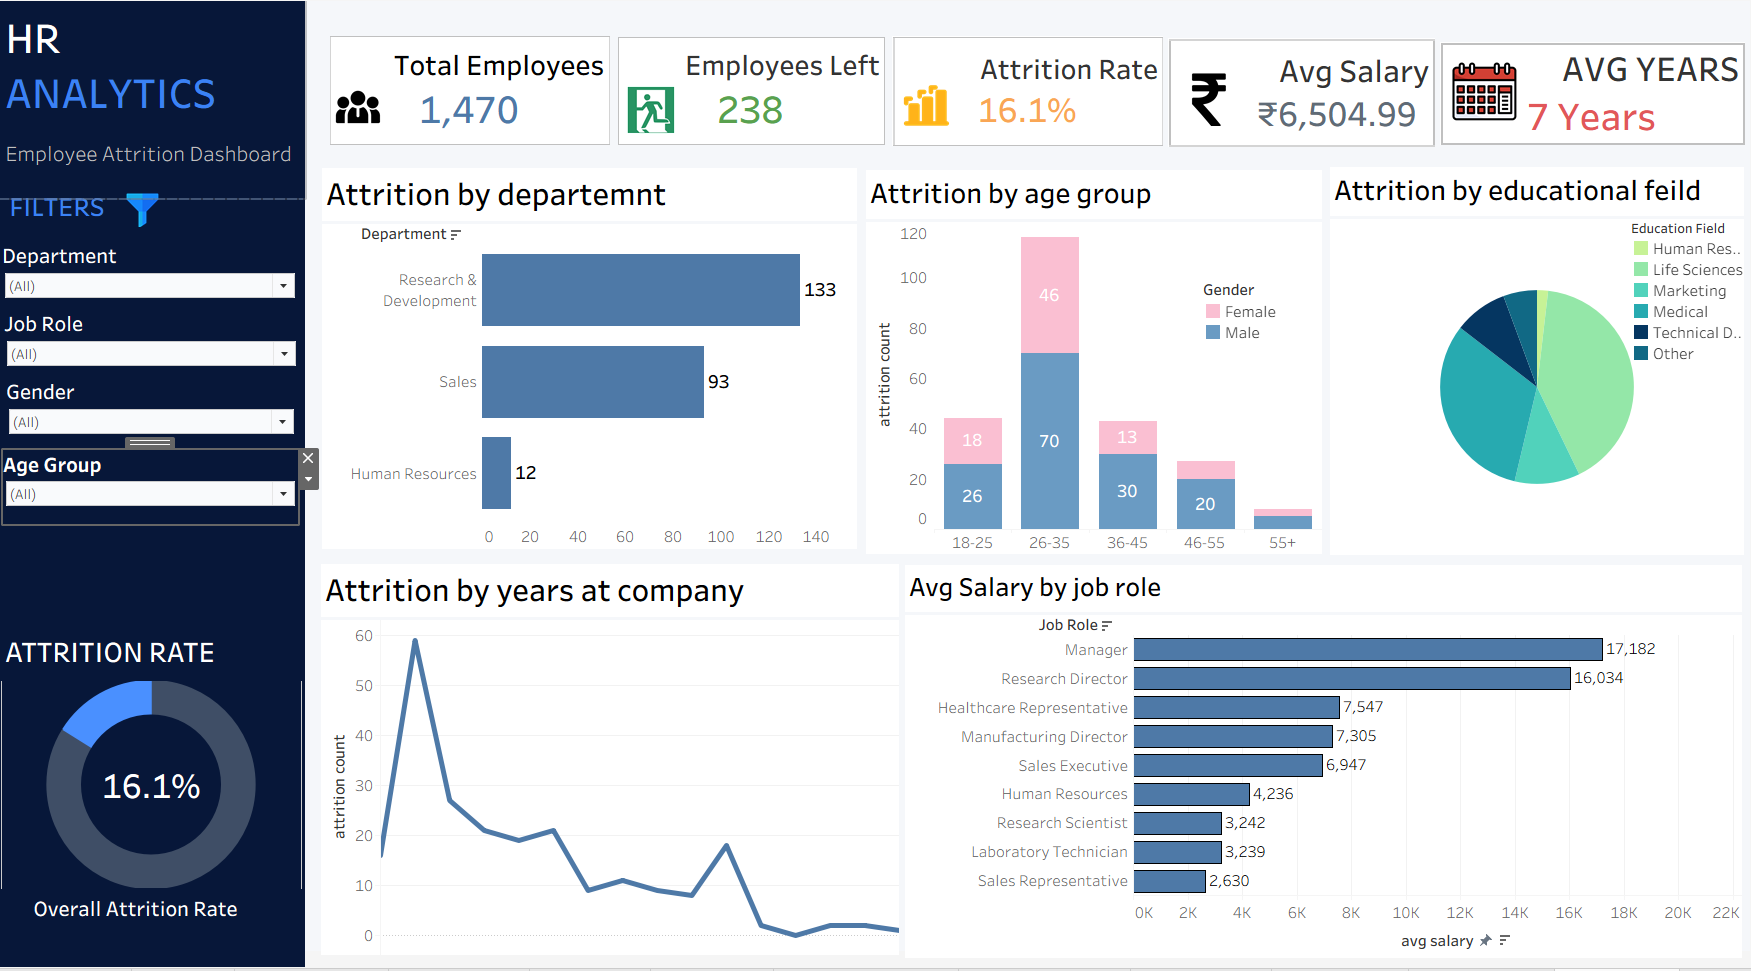

The dashboard page shown, as its layout file describes it:
{"tool":"tableau","page":{"name":"Dashboard 1","canvas":[1750,950],"ordinal":0},"visuals":[{"type":"worksheet","title":"KPI - total employee","mark":"Automatic","box":[329.8,35,280,109]},{"type":"worksheet","title":"KPI -attrition rate","mark":"Automatic","box":[892,35,271.5,110]},{"type":"worksheet","title":"KPI -employees left","mark":"Automatic","box":[618.3,36,267.3,108]},{"type":"worksheet","title":"KPI- avg salary","mark":"Automatic","box":[1167.7,37,267.3,109]},{"type":"worksheet","title":"KPI - Avg years","mark":"Automatic","box":[1440.3,41,305.5,103]},{"type":"image","param":"C:/Users/anuja/Downloads/calendar.png","box":[1450.9,57,65.8,70]},{"type":"image","param":"C:/Users/anuja/Downloads/rupee-indian.png","box":[1181.5,72,66.8,53]},{"type":"image","param":"C:/Users/anuja/Downloads/stats.png","box":[899.4,77,60.5,54]},{"type":"image","param":"C:/Users/anuja/Downloads/teamwork.png","box":[334.1,82,57.3,47]},{"type":"image","param":"C:/Users/anuja/Downloads/human.png","box":[625.8,84,55.2,49]},{"type":"worksheet","title":"attritaion bby feild","mark":"Pie","box":[1330,166,414,388]},{"type":"worksheet","title":"Attrition by departemnt","mark":"Automatic","rows":["Department"],"cols":["Calculation_0906554186465280"],"box":[322.2,167,535.3,381]},{"type":"worksheet","title":"Attrition by age group","mark":"Automatic","rows":["Calculation_0906554186465280"],"cols":["AgeGroup"],"box":[865.7,169,456,384]},{"type":"text","box":[5.8,190,150.5,30]},{"type":"image","param":"C:/Users/anuja/Downloads/filter.png","box":[125.2,192,44.5,34]},{"type":"legend","title":"attritaion bby feild","param":"[federated.17lf6bw067pb351052cyk0sp1png].[none:EducationField:nk]","box":[1631,218,117,154]},{"type":"filter","title":"Attrition by departemnt","param":"[federated.17lf6bw067pb351052cyk0sp1png].[none:Department:nk]","box":[2.3,240,296.3,143]},{"type":"legend","title":"Attrition by age group","param":"[federated.17lf6bw067pb351052cyk0sp1png].[none:Gender:nk]","box":[1202.7,278,163.3,66]},{"type":"filter","title":"Attrition by departemnt","param":"[federated.17lf6bw067pb351052cyk0sp1png].[none:JobRole:nk]","box":[3.5,308,295.2,87]},{"type":"filter","title":"Attrition by age group","param":"[federated.17lf6bw067pb351052cyk0sp1png].[none:Gender:nk]","box":[5.8,376,290.5,81]},{"type":"filter","title":"Attrition by age group","param":"[federated.17lf6bw067pb351052cyk0sp1png].[none:AgeGroup:nk]","box":[3.2,449,294.8,74]},{"type":"worksheet","title":"years at comapny ","mark":"Line","rows":["Calculation_0906554186465280"],"cols":["YearsAtCompany"],"box":[321.4,563,578,391]},{"type":"worksheet","title":"overtime analysis","mark":"Pie","rows":["Calculation_0656965281644546","Calculation_0656965281644546"],"box":[1.1,628,301.2,260]},{"type":"text","box":[29.7,888,230.2,38]}]}

Visuals, with their boxes in screenshot pixels (x1, y1, x2, y2), scaled from the page's 1750x950 canvas onto the 1751x971 screenshot:
"KPI - total employee" worksheet: l=330, t=36, r=610, b=147
"KPI -attrition rate" worksheet: l=893, t=36, r=1164, b=148
"KPI -employees left" worksheet: l=619, t=37, r=886, b=147
"KPI- avg salary" worksheet: l=1168, t=38, r=1436, b=149
"KPI - Avg years" worksheet: l=1441, t=42, r=1747, b=147
image: l=1452, t=58, r=1518, b=130
image: l=1182, t=74, r=1249, b=128
image: l=900, t=79, r=960, b=134
image: l=334, t=84, r=392, b=132
image: l=626, t=86, r=681, b=136
"attritaion bby feild" worksheet (Pie marks): l=1331, t=170, r=1745, b=566
"Attrition by departemnt" worksheet: l=322, t=171, r=858, b=560
"Attrition by age group" worksheet: l=866, t=173, r=1322, b=565
text: l=6, t=194, r=156, b=225
image: l=125, t=196, r=170, b=231
"attritaion bby feild" legend: l=1632, t=223, r=1749, b=380
"Attrition by departemnt" filter: l=2, t=245, r=299, b=391
"Attrition by age group" legend: l=1203, t=284, r=1367, b=352
"Attrition by departemnt" filter: l=4, t=315, r=299, b=404
"Attrition by age group" filter: l=6, t=384, r=296, b=467
"Attrition by age group" filter: l=3, t=459, r=298, b=535
"years at comapny " worksheet (Line marks): l=322, t=575, r=900, b=970
"overtime analysis" worksheet (Pie marks): l=1, t=642, r=302, b=908
text: l=30, t=908, r=260, b=946
